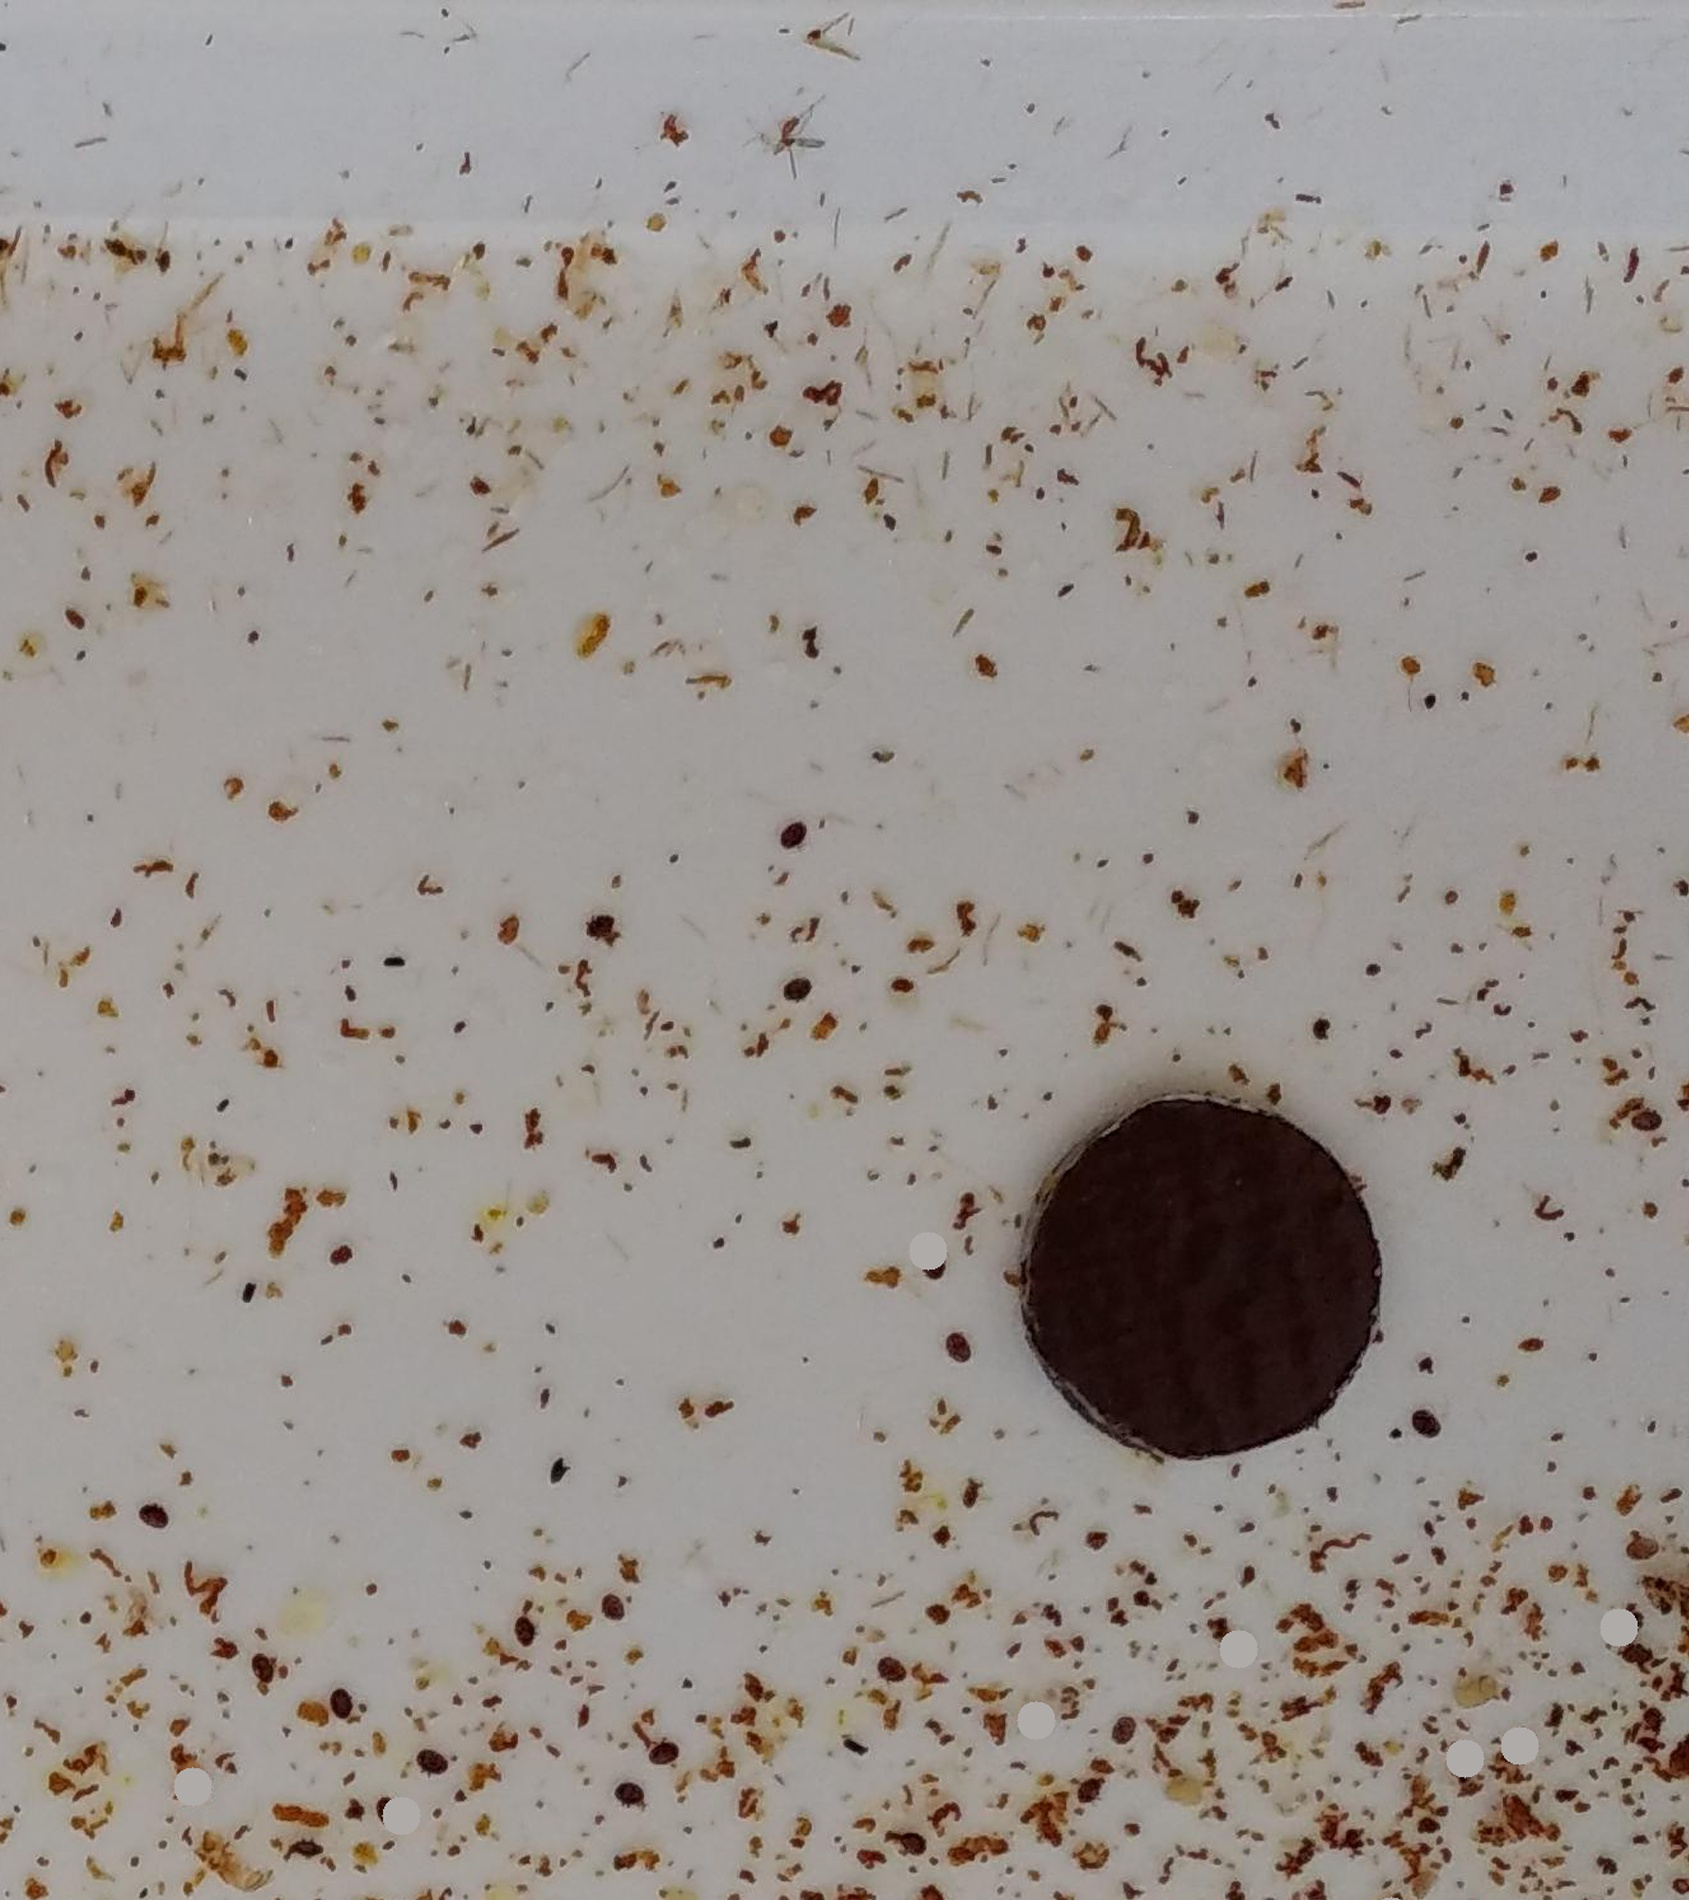Varroa: (773, 819, 804, 850), (942, 1332, 972, 1362), (897, 1828, 924, 1859), (249, 1654, 277, 1683), (587, 913, 615, 943), (1409, 1407, 1436, 1435), (1634, 1101, 1660, 1130), (510, 1611, 536, 1641), (615, 1779, 641, 1809), (600, 1593, 626, 1621), (373, 1799, 399, 1827), (1621, 1533, 1647, 1561), (1110, 1717, 1136, 1745), (783, 969, 809, 996), (329, 1690, 354, 1717), (879, 1650, 903, 1677), (416, 1743, 440, 1770), (652, 1740, 677, 1766), (1078, 1778, 1097, 1801), (929, 1256, 947, 1280), (147, 1504, 166, 1522)
